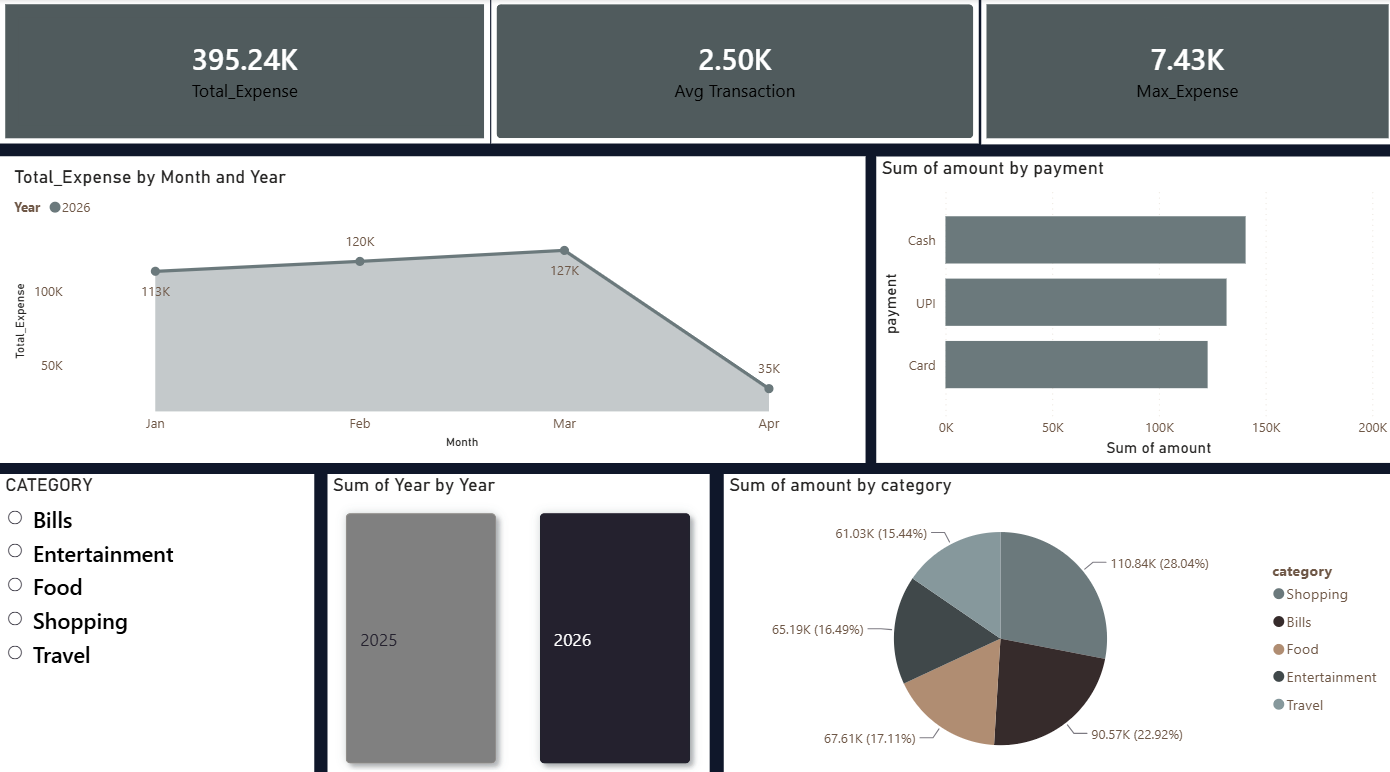

What the dashboard file says about the page in this screenshot:
{"tool":"powerbi","page":{"name":"Page 1","canvas":[1280,720],"ordinal":0},"visuals":[{"type":"cardVisual","fields":{"Data":["expenses.Total_Expense"]},"box":[0,0,450,133],"z":0},{"type":"cardVisual","fields":{"Data":["expenses.Average_Expense"]},"box":[451.1,0,448,133],"z":1000},{"type":"cardVisual","fields":{"Data":["expenses.Max_Expense"]},"box":[901.7,0,379,133.2],"z":2000},{"type":"lineChart","fields":{"Category":["expenses.Month"],"Y":["expenses.Total_Expense"],"Series":["expenses.Year"]},"box":[0,145,795,281.2],"z":3000},{"type":"pieChart","fields":{"Category":["expenses.category"],"Y":["Sum(expenses.amount)"]},"box":[665,436.2,615,283.8],"z":4000},{"type":"barChart","fields":{"Y":["Sum(expenses.amount)"],"Category":["expenses.payment"]},"box":[805,145,475,281.2],"z":5000},{"type":"listSlicer","title":"CATEGORY","fields":{"Values":["expenses.category"]},"box":[0,436.2,288.8,283.8],"z":6000},{"type":"advancedSlicerVisual","fields":{"Values":["expenses.Year"]},"box":[301.2,436.2,351.2,283.8],"z":7000}]}

Visuals, with their boxes in screenshot pixels (x1, y1, x2, y2), scaled from the page's 1280x720 canvas onto the 1390x772 screenshot:
cardVisual - expenses.Total_Expense: <box>0,0,489,143</box>
cardVisual - expenses.Average_Expense: <box>490,0,976,143</box>
cardVisual - expenses.Max_Expense: <box>979,0,1389,143</box>
lineChart - expenses.Month x expenses.Total_Expense: <box>0,155,863,457</box>
pieChart - expenses.category x Sum(expenses.amount): <box>722,468,1389,771</box>
barChart - Sum(expenses.amount) x expenses.payment: <box>874,155,1389,457</box>
"CATEGORY" listSlicer: <box>0,468,314,771</box>
advancedSlicerVisual - expenses.Year: <box>327,468,708,771</box>
